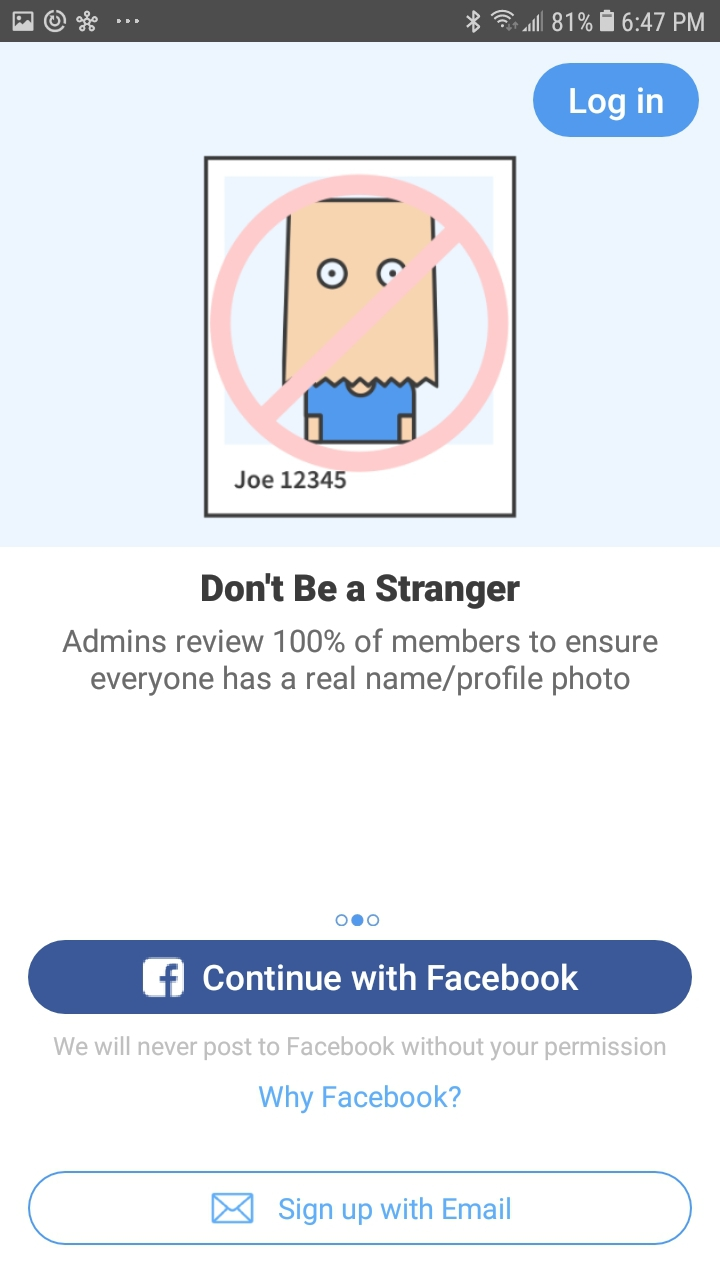Image: (203, 155, 517, 519)
PageIndicator: (336, 913, 381, 927)
Text: (62, 628, 659, 697), (54, 1036, 666, 1061), (202, 572, 521, 610), (259, 1084, 462, 1114)
TextButton: (29, 939, 693, 1015), (29, 1171, 693, 1246), (532, 64, 700, 139)
UpperTaskBar: (1, 1, 720, 43)
